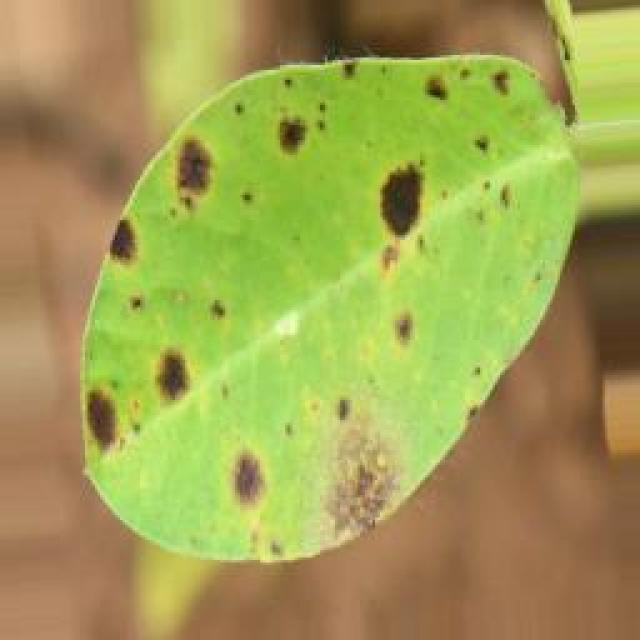Yellowish: (72, 52, 530, 582)
